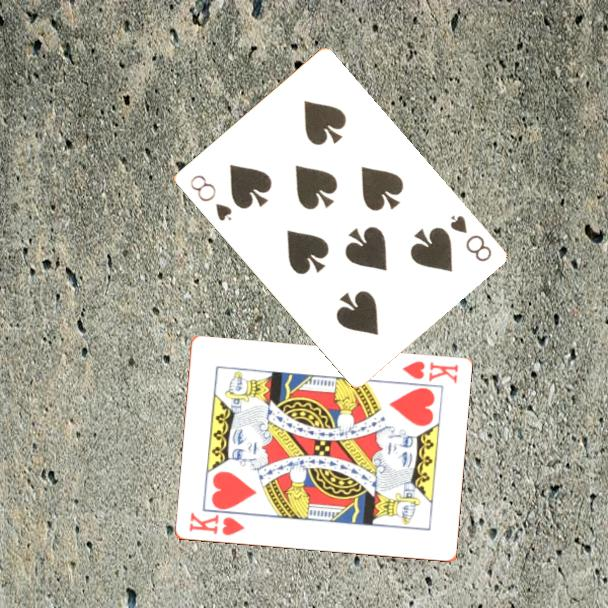h13: (185, 509, 247, 539), (398, 358, 461, 387)
s08: (446, 211, 494, 265), (186, 171, 234, 224)
